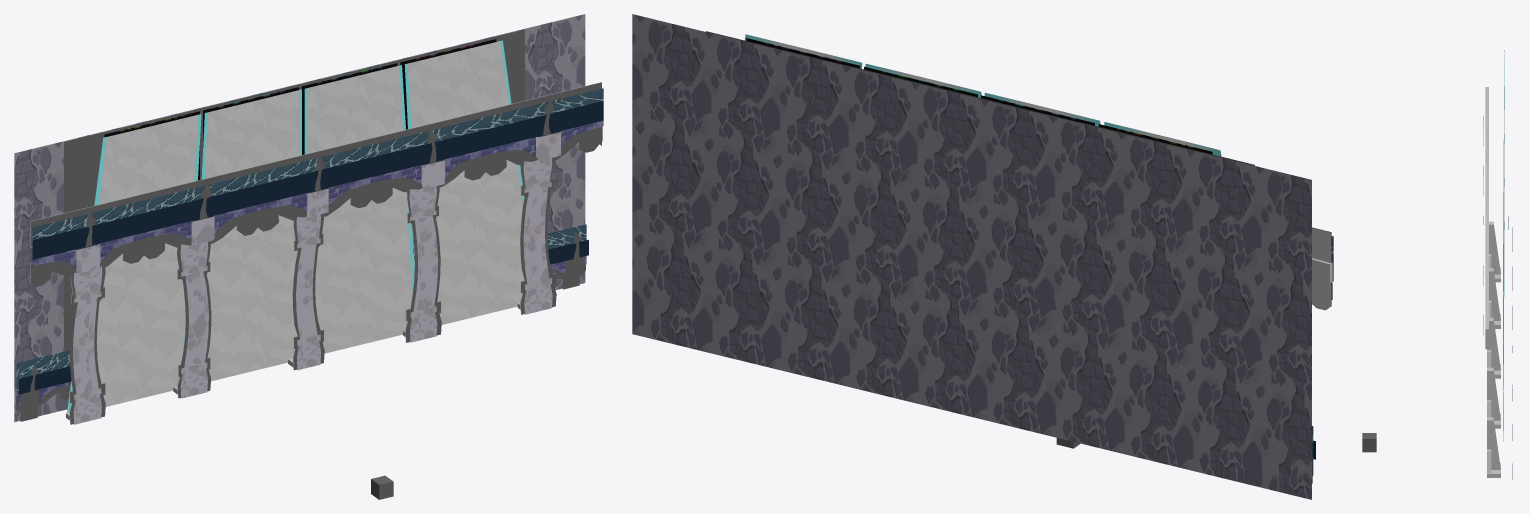
File: stg_04_2_bake_split.dae
The picture shows the model from 3 angles, left to right: view 1: azimuth 30°, elevation 25°; view 2: azimuth 150°, elevation 25°; view 3: azimuth 270°, elevation 25°; orthographic projection. The views are drawn at different scales.
Visible parts, largest first — view 1: polySurface1301_q00137, polySurface1299_q00135, polySurface1303_q00139, polySurface1295_q00131, polySurface110_q00146, polySurface1319_q00079, polySurface1325_q00038_part2, polySurface1322_q00030, polySurface1325_q00038_part1, polySurface1333, polySurface1329, polySurface1270_q00148 (+21 smaller); view 2: polySurface110_q00146, polySurface1328_q00024; view 3: polySurface1250_q00020, pCube24_q00005, pCube24_q00011, pCube24_q00008, pCube24_q00014, pCube24_q00002, pCube25, polySurface1303_q00139, polySurface1295_q00131.
Part boxes in pixels (left/top/right/bottom): polySurface1301_q00137: left=307, top=65, right=412, bottom=353; polySurface1299_q00135: left=205, top=90, right=299, bottom=381; polySurface1303_q00139: left=407, top=41, right=524, bottom=324; polySurface1295_q00131: left=96, top=114, right=198, bottom=406; polySurface110_q00146: left=14, top=14, right=585, bottom=422; polySurface1319_q00079: left=32, top=101, right=603, bottom=259; polySurface1325_q00038_part2: left=32, top=88, right=603, bottom=259; polySurface1322_q00030: left=30, top=82, right=601, bottom=286; polySurface1325_q00038_part1: left=32, top=120, right=603, bottom=267; polySurface1333: left=523, top=158, right=552, bottom=314; polySurface1329: left=73, top=266, right=102, bottom=424; polySurface1270_q00148: left=64, top=106, right=211, bottom=351; polySurface110_q00146: left=632, top=14, right=1311, bottom=499; polySurface1328_q00024: left=1312, top=228, right=1331, bottom=310; polySurface1250_q00020: left=1485, top=87, right=1488, bottom=349; pCube24_q00005: left=1487, top=367, right=1500, bottom=420; pCube24_q00011: left=1487, top=417, right=1500, bottom=469; pCube24_q00008: left=1487, top=317, right=1500, bottom=370; pCube24_q00014: left=1489, top=221, right=1500, bottom=274; pCube24_q00002: left=1489, top=268, right=1500, bottom=320; pCube25: left=1362, top=433, right=1376, bottom=452; polySurface1303_q00139: left=1503, top=221, right=1504, bottom=441; polySurface1295_q00131: left=1503, top=51, right=1504, bottom=290.
Bounding box in the file's own units: 40 × 23.5 × 10.5.
